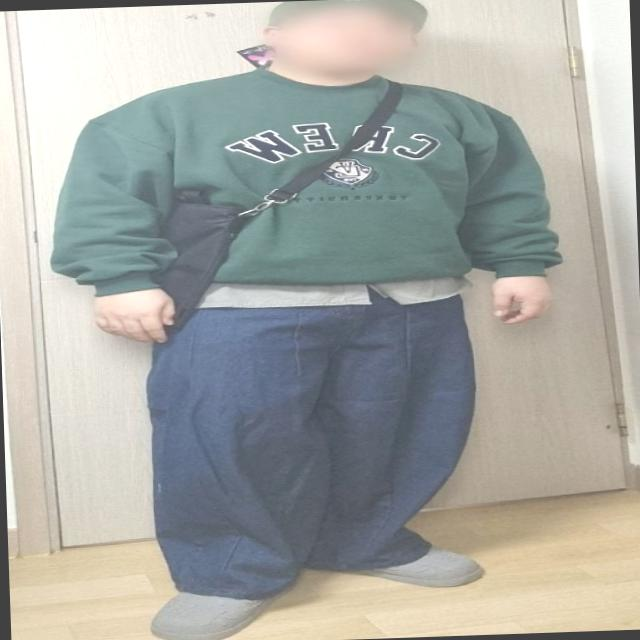denimpants: (142, 286, 488, 602)
mtm: (58, 54, 564, 310)
